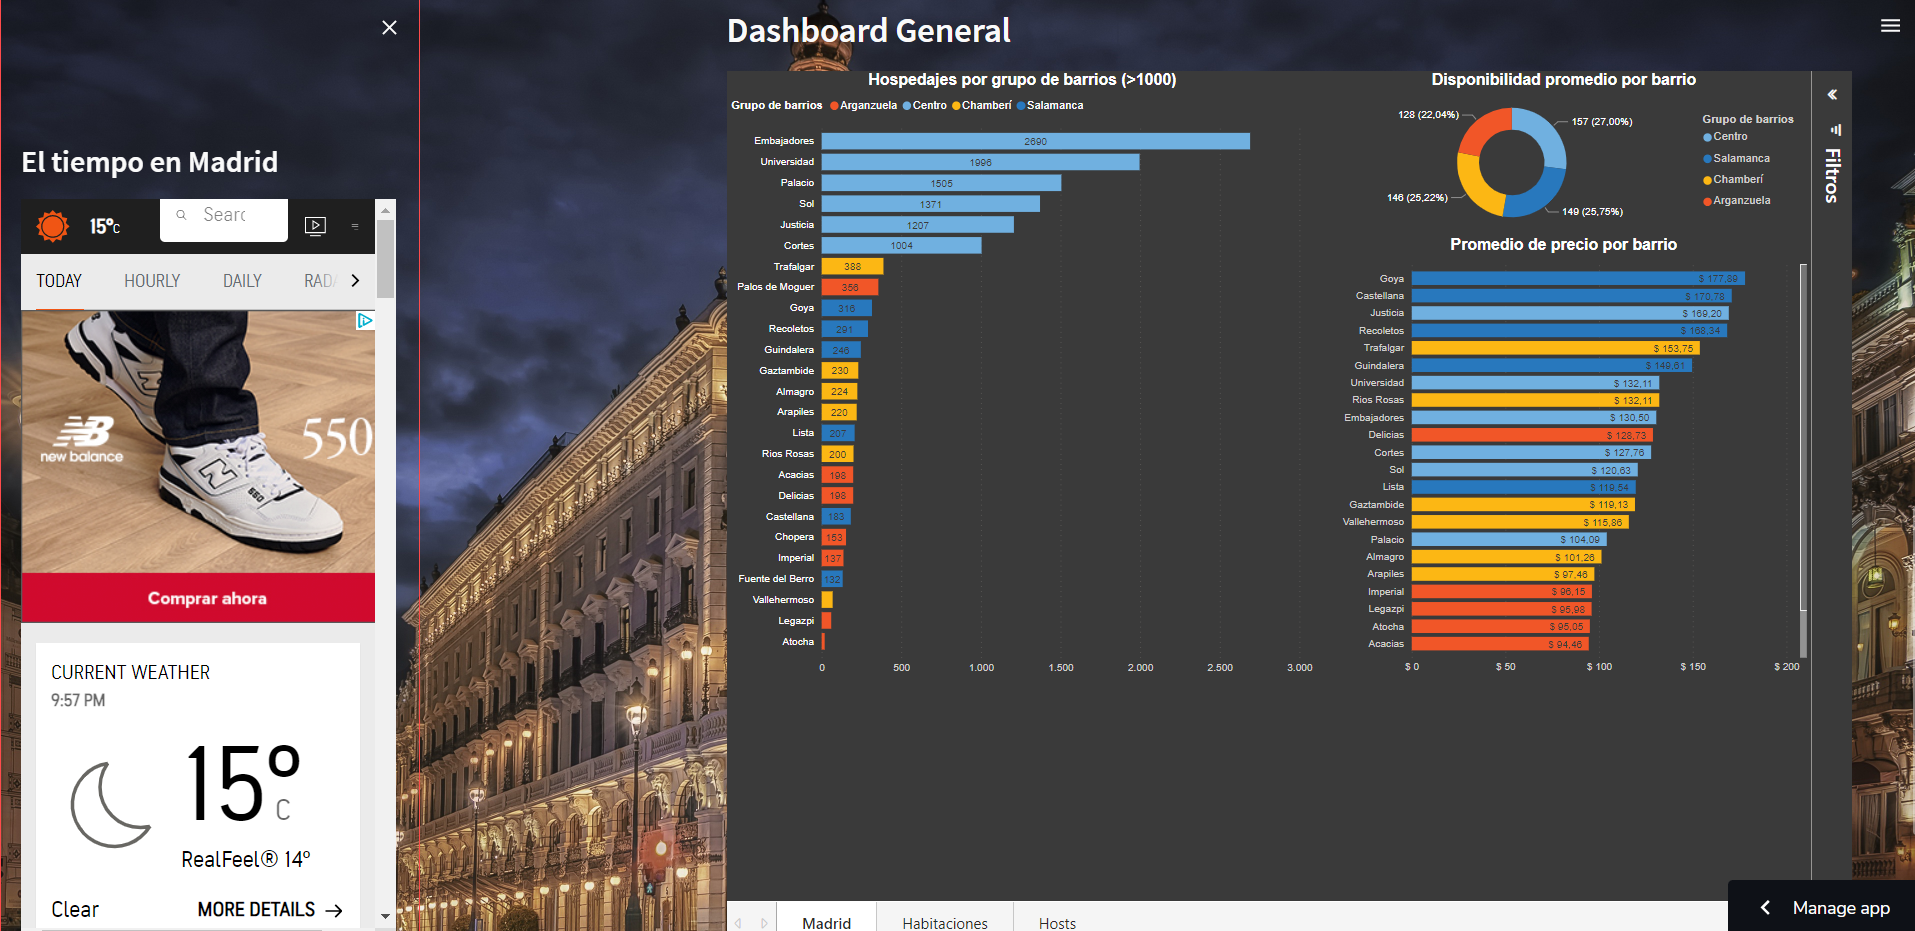

What the dashboard file says about the page in this screenshot:
{"tool":"powerbi","page":{"name":"Madrid","canvas":[1280,720],"ordinal":0},"visuals":[{"type":"barChart","title":"Hospedajes por grupo de barrios (>1000)","fields":{"Category":["madridsinNulls.neighbourhood"],"Series":["madridsinNulls.neighbourhood_group"],"Y":["CountNonNull(madridsinNulls.neighbourhood)"]},"box":[0,0,697.4,720],"z":0},{"type":"donutChart","title":"Disponibilidad promedio por barrio","fields":{"Category":["madridsinNulls.neighbourhood_group"],"Y":["Avg(madridsinNulls.availability_365)"]},"box":[697.4,0,583.1,195.2],"z":1000},{"type":"barChart","title":"Promedio de precio por barrio","fields":{"Category":["madridsinNulls.neighbourhood"],"Y":["Avg(madridsinNulls.price)"],"Series":["madridsinNulls.neighbourhood_group"]},"box":[697.4,195.2,583.1,524.8],"z":2000}]}

Visuals, with their boxes on the page's 1280x720 design canvas (x1, y1, x2, y2). These are canvas units, not pixel positions in the 1915x931 screenshot, which may show the page scaled, cropped or inside an application window:
"Hospedajes por grupo de barrios (>1000)" barChart: 0, 0, 697, 720
"Disponibilidad promedio por barrio" donutChart: 697, 0, 1280, 195
"Promedio de precio por barrio" barChart: 697, 195, 1280, 720
